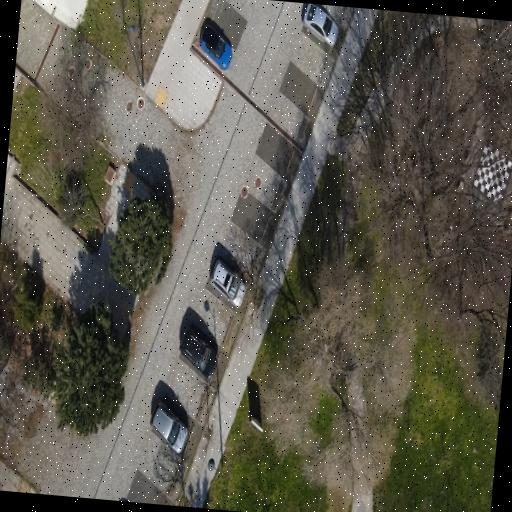person: (179, 325, 216, 378), (150, 402, 186, 453), (211, 261, 244, 307), (199, 23, 231, 70), (303, 4, 337, 47)
